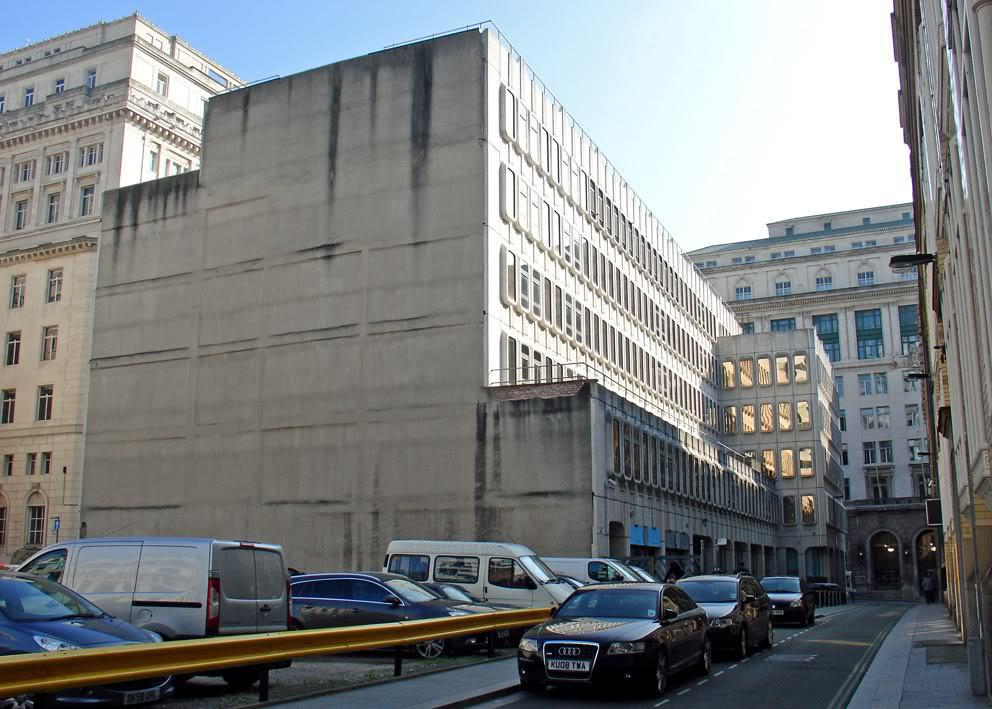affected: (70, 14, 872, 603)
